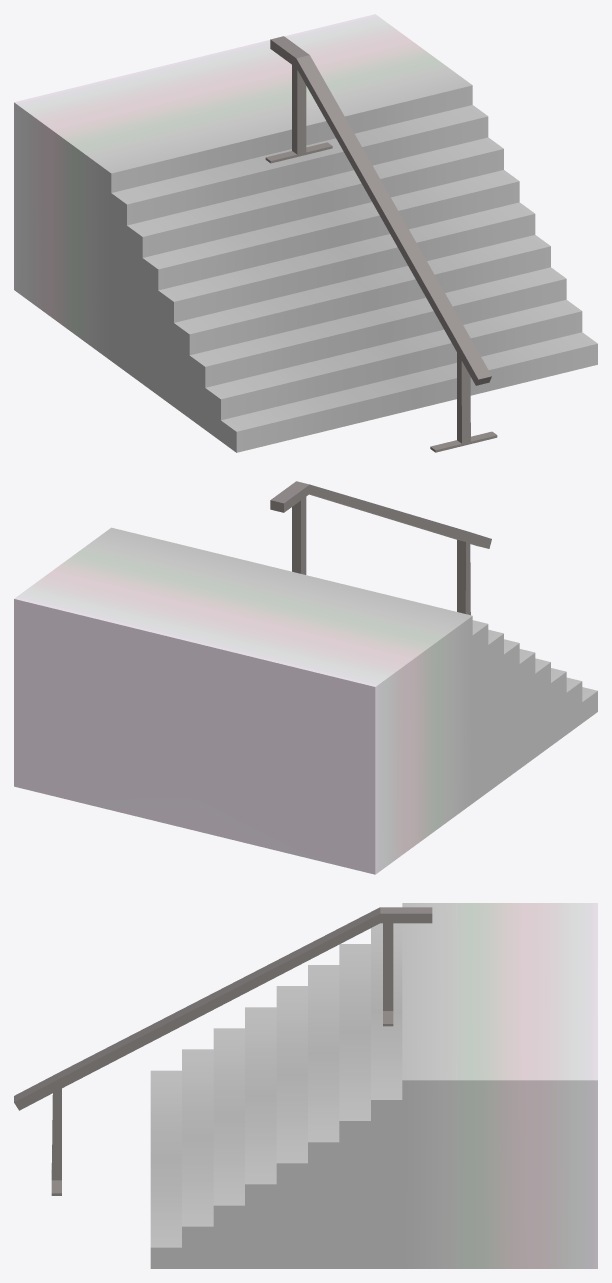
File: SkateboardStairsetHandrailCement.glb
3 renders of one model, top to bottom at view 1: azimuth 30°, elevation 25°; view 2: azimuth 150°, elevation 25°; view 3: azimuth 270°, elevation 25°, orthographic.
Visible parts, largest first — view 1: SkateboardStairsetHandrailCement; view 2: SkateboardStairsetHandrailCement; view 3: SkateboardStairsetHandrailCement.
Boxes of the visible parts, box(x1,y1,x2,y2) form: SkateboardStairsetHandrailCement: box(14, 14, 597, 452); SkateboardStairsetHandrailCement: box(14, 481, 597, 874); SkateboardStairsetHandrailCement: box(14, 903, 597, 1268).
Bounding box in the file's own units: 4 × 2.84 × 5.57.
Materials: 1 (1 with a texture image).
